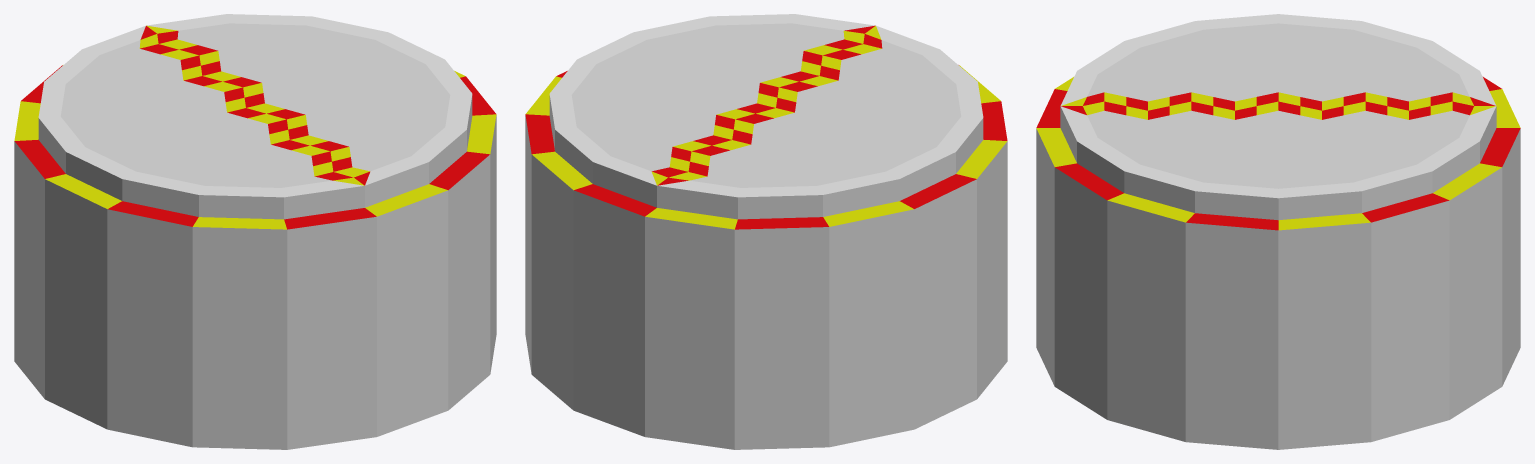
File: silo.fbx
3 views of the same model, side by side, from view 1: azimuth 30°, elevation 25°; view 2: azimuth 150°, elevation 25°; view 3: azimuth 270°, elevation 25° (orthographic).
Visible parts, largest first — view 1: Cylinder, Cylinder.001, Cylinder.002; view 2: Cylinder, Cylinder.001, Cylinder.002; view 3: Cylinder, Cylinder.002, Cylinder.001.
Part boxes in pixels (x1,y1,x2,y2): Cylinder: (14, 65, 496, 449); Cylinder.001: (38, 25, 364, 219); Cylinder.002: (146, 14, 472, 207); Cylinder: (525, 65, 1007, 449); Cylinder.001: (657, 25, 983, 219); Cylinder.002: (549, 14, 875, 207); Cylinder: (1036, 77, 1520, 449); Cylinder.002: (1060, 101, 1496, 220); Cylinder.001: (1060, 14, 1496, 110).
Bounding box in the file's own units: 200 × 110 × 200.
